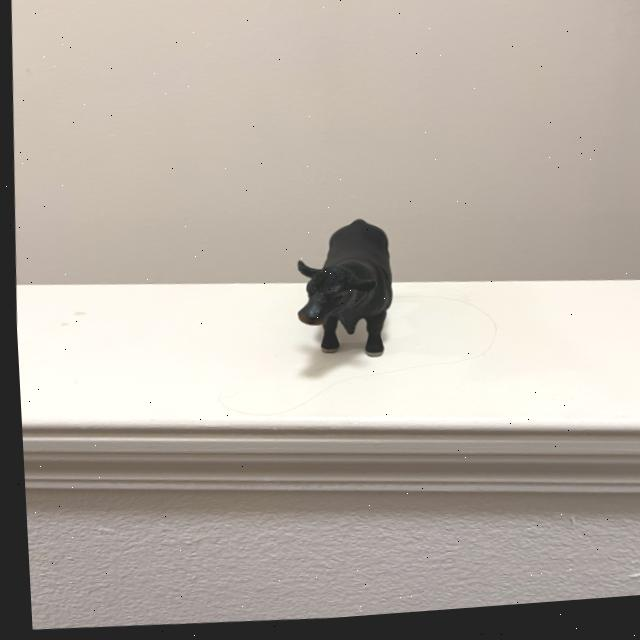cow: (301, 223, 390, 349)
